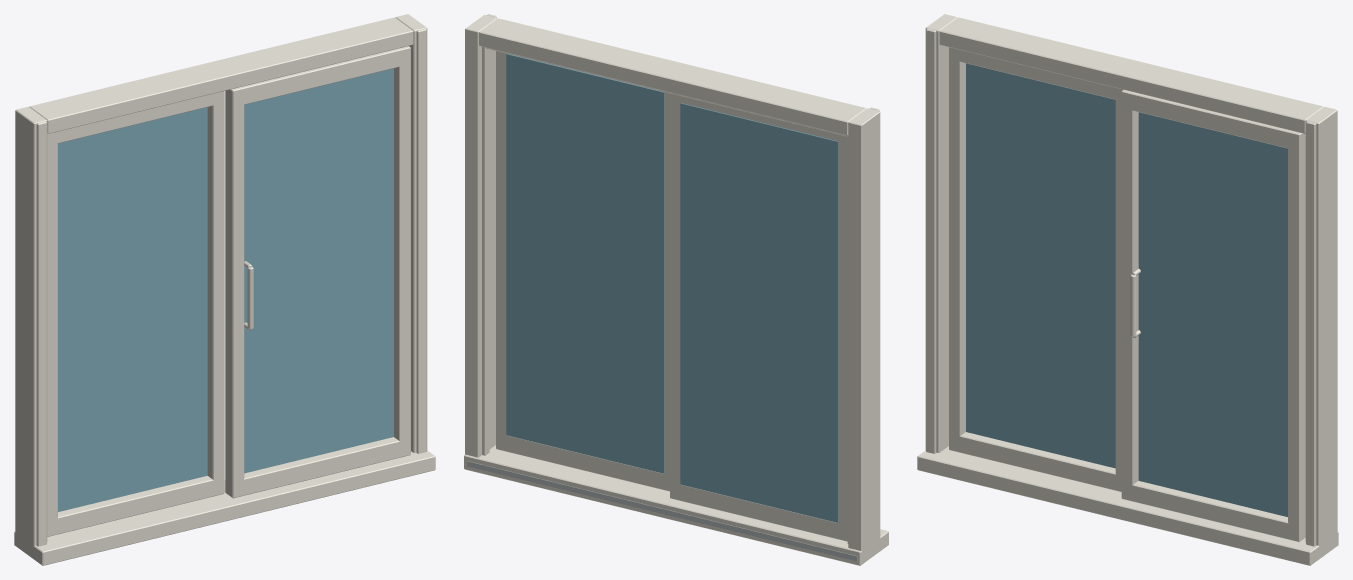
The model's file is b12_sliding_patio_door.glb.
3 views of the same model, side by side, from view 1: azimuth 30°, elevation 25°; view 2: azimuth 150°, elevation 25°; view 3: azimuth 330°, elevation 25° (orthographic).
Visible parts, largest first — view 1: b12_sliding_patio_door; view 2: b12_sliding_patio_door; view 3: b12_sliding_patio_door.
Part boxes in pixels (x1,y1,x2,y2): b12_sliding_patio_door: (14,14,435,565); b12_sliding_patio_door: (464,14,888,565); b12_sliding_patio_door: (917,14,1338,565).
Bounding box in the file's own units: 2.15 × 2.28 × 0.271.
